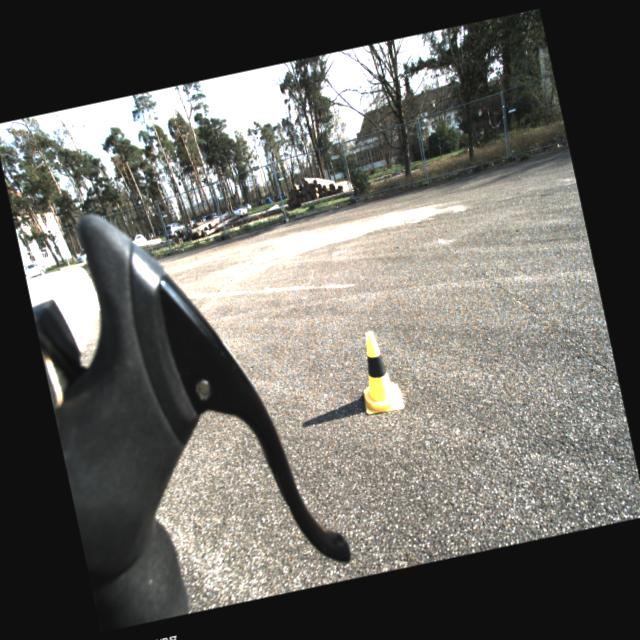yellow_cone: (350, 328, 404, 416)
